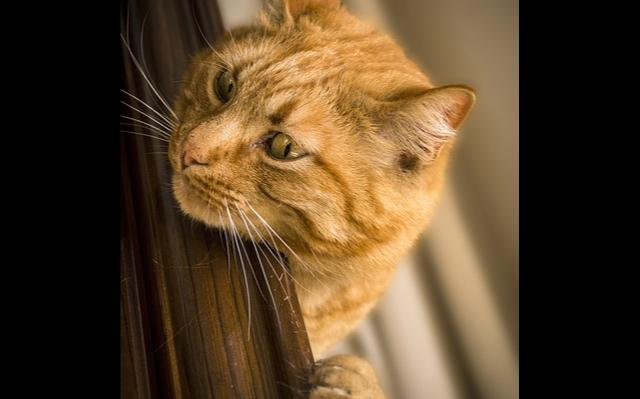Non_Gorille: (120, 0, 510, 399)
